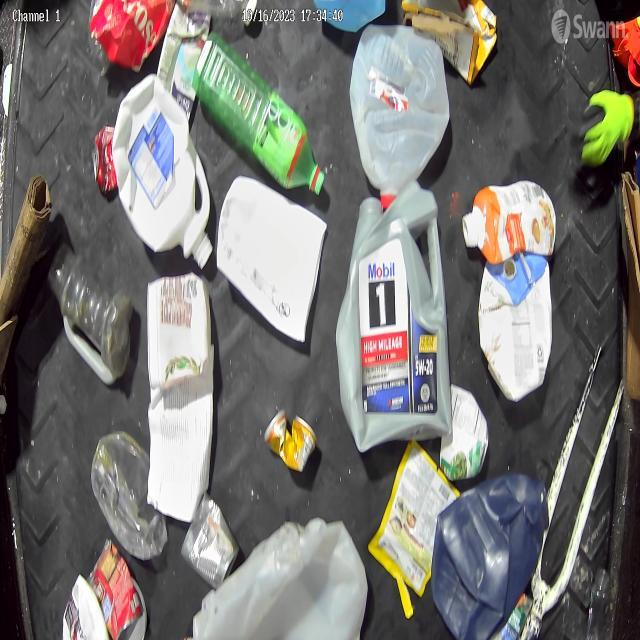can: (182, 496, 234, 580), (266, 411, 316, 472), (94, 124, 116, 192)
milk_jug: (112, 74, 214, 268), (351, 21, 452, 212)
non_white_jug: (430, 468, 544, 636), (91, 538, 140, 640)
plastic_bottle: (93, 430, 160, 554)
